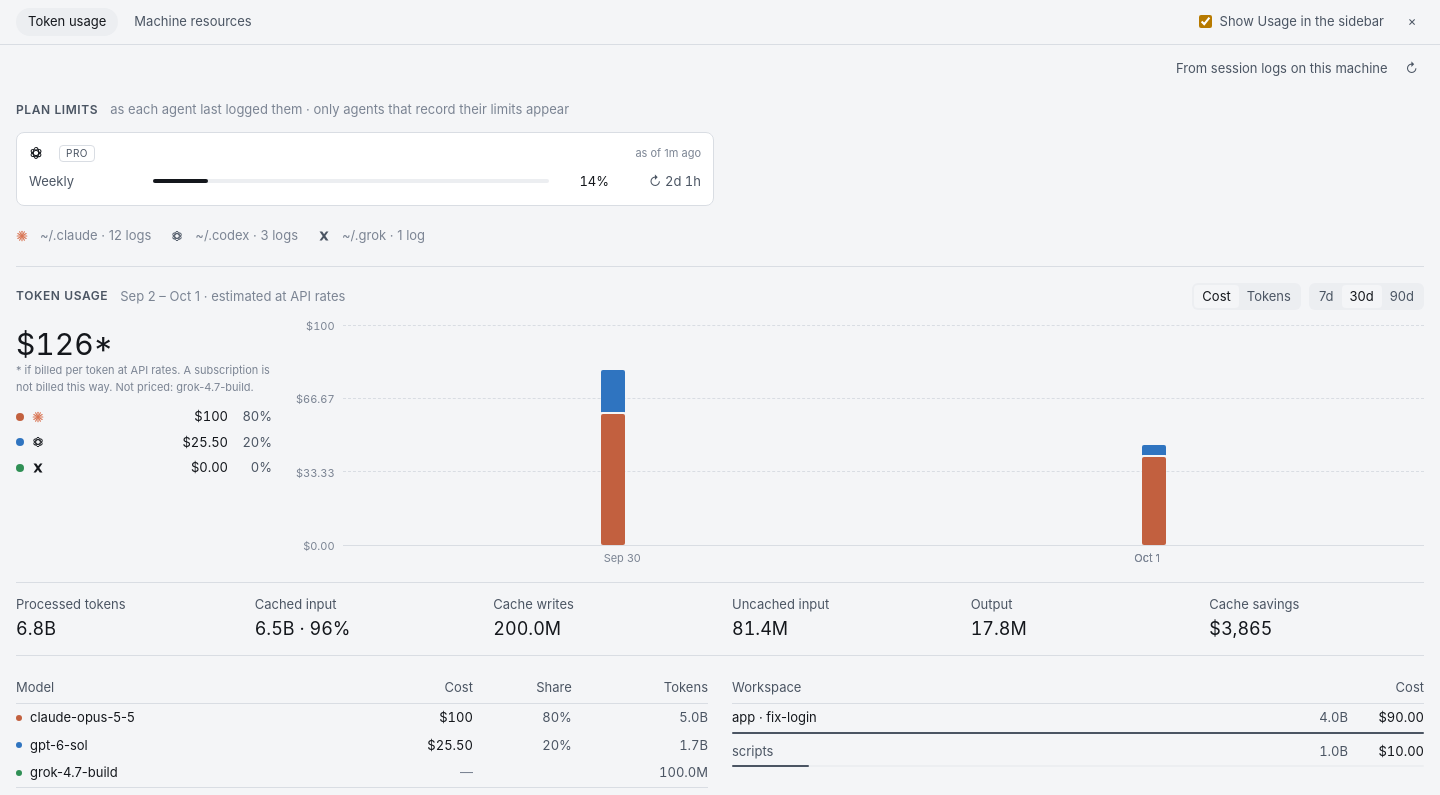
Test: Usage › puts the sidebar switch back and says so when it cannot be saved
This screenshot has width=1440, height=795.
Click the checkbox labelled "Show Usage in the sidebar".
click(1205, 22)  # box [1199,15,1212,28]
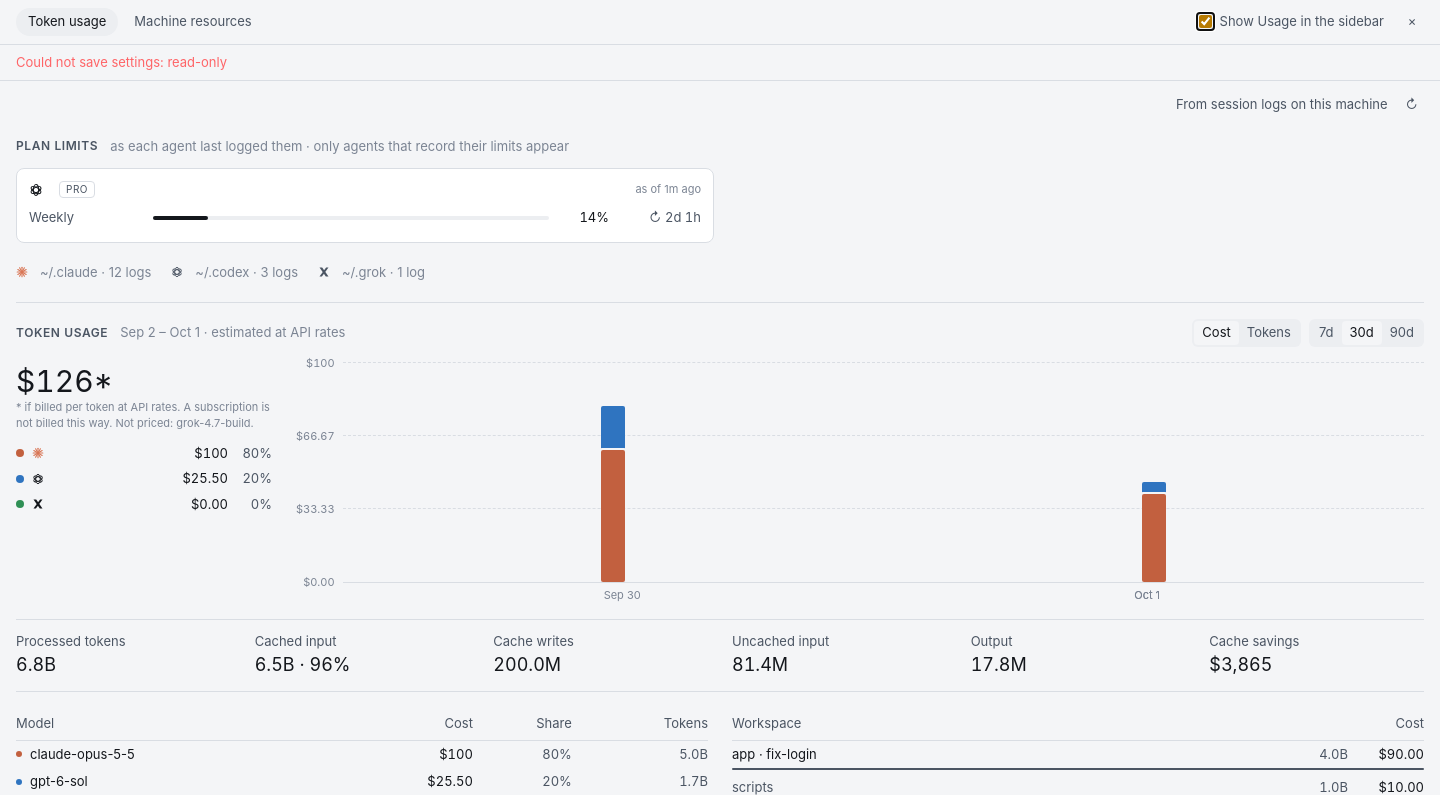
Now the message shows "read-only", box [16,54,227,70]
